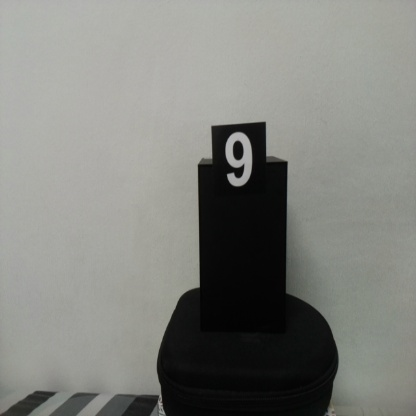id_9: (213, 126, 266, 209)
